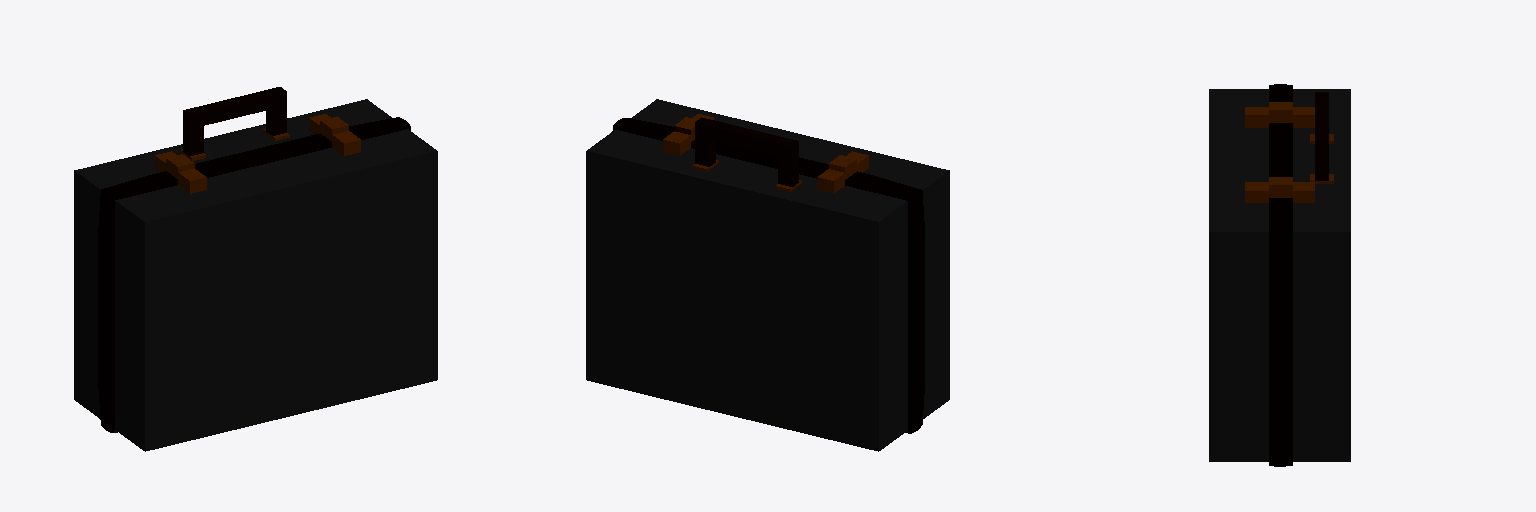
File: ValiseGrise.obj
The picture shows the model from 3 angles: view 1: azimuth 30°, elevation 25°; view 2: azimuth 150°, elevation 25°; view 3: azimuth 270°, elevation 25°; orthographic projection.
Parts seen in each view (by area): view 1: pCube1; view 2: pCube1; view 3: pCube1.
Part boxes in pixels (x1,y1,x2,y2): pCube1: (74, 87, 437, 451); pCube1: (586, 99, 949, 451); pCube1: (1209, 84, 1350, 466).
Size of the model in its own units: 5.98 by 5.28 by 2.41.